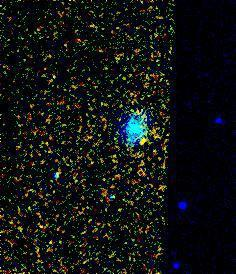star: (126, 128, 156, 158)
